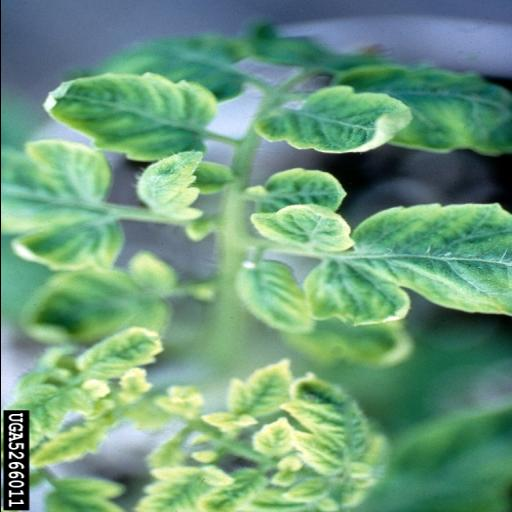disease_tomato: (355, 200, 512, 314), (40, 71, 214, 157), (252, 86, 408, 156), (300, 253, 428, 333), (298, 374, 378, 480), (232, 160, 347, 218), (233, 252, 312, 336), (247, 201, 351, 261), (220, 358, 298, 428), (74, 325, 166, 381), (136, 150, 202, 224), (133, 463, 229, 512), (28, 422, 112, 468), (252, 418, 296, 460)
